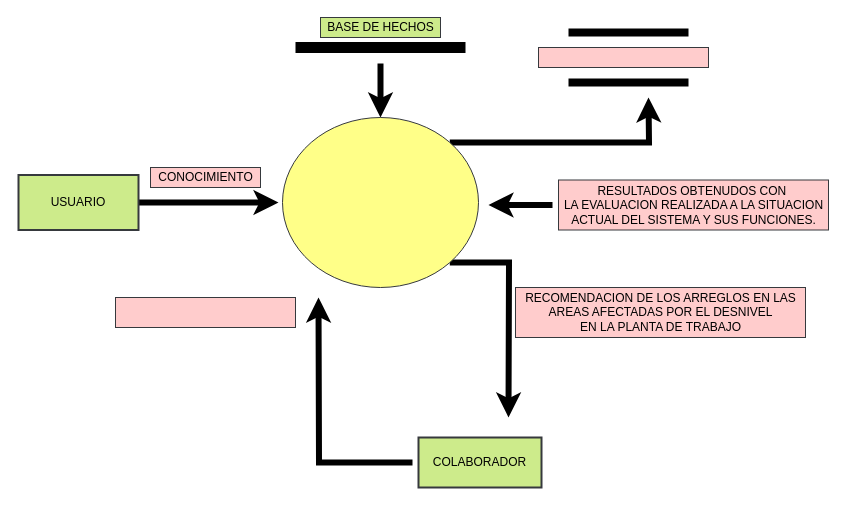
This 846x506 diagram has some shape labels left out. The shapes that lost their labels are listed below. From the top down, each one's centre as x and y in pixels, then its label:
At [623,57]: "BASE DE CONOCIMIENTOS".
At [380,202]: "SISTEMA EXPERTO".
At [205,312]: "GESTOR DE LOS PROCESOS DEL SISTEMA EXPERTO".
